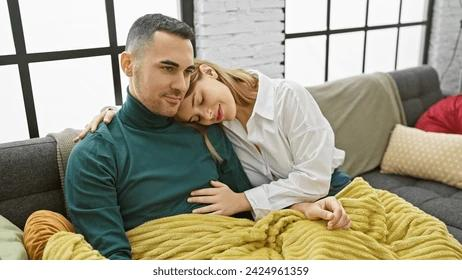blanket: (42, 176, 462, 260)
long sleeve shirt: (221, 68, 347, 222)
sweater: (66, 86, 293, 260)
